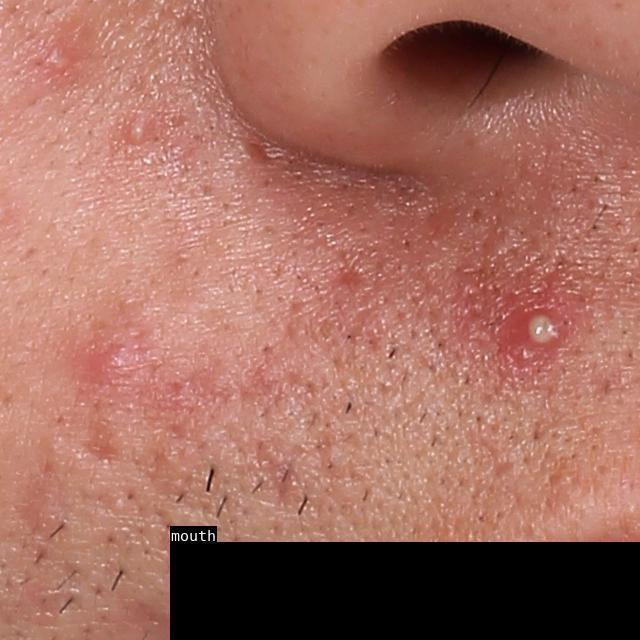atrophic_scar: (248, 430, 298, 505), (67, 417, 121, 467), (323, 250, 375, 294)
papule: (86, 339, 144, 399)
pustule: (43, 48, 74, 77), (123, 121, 150, 147)
